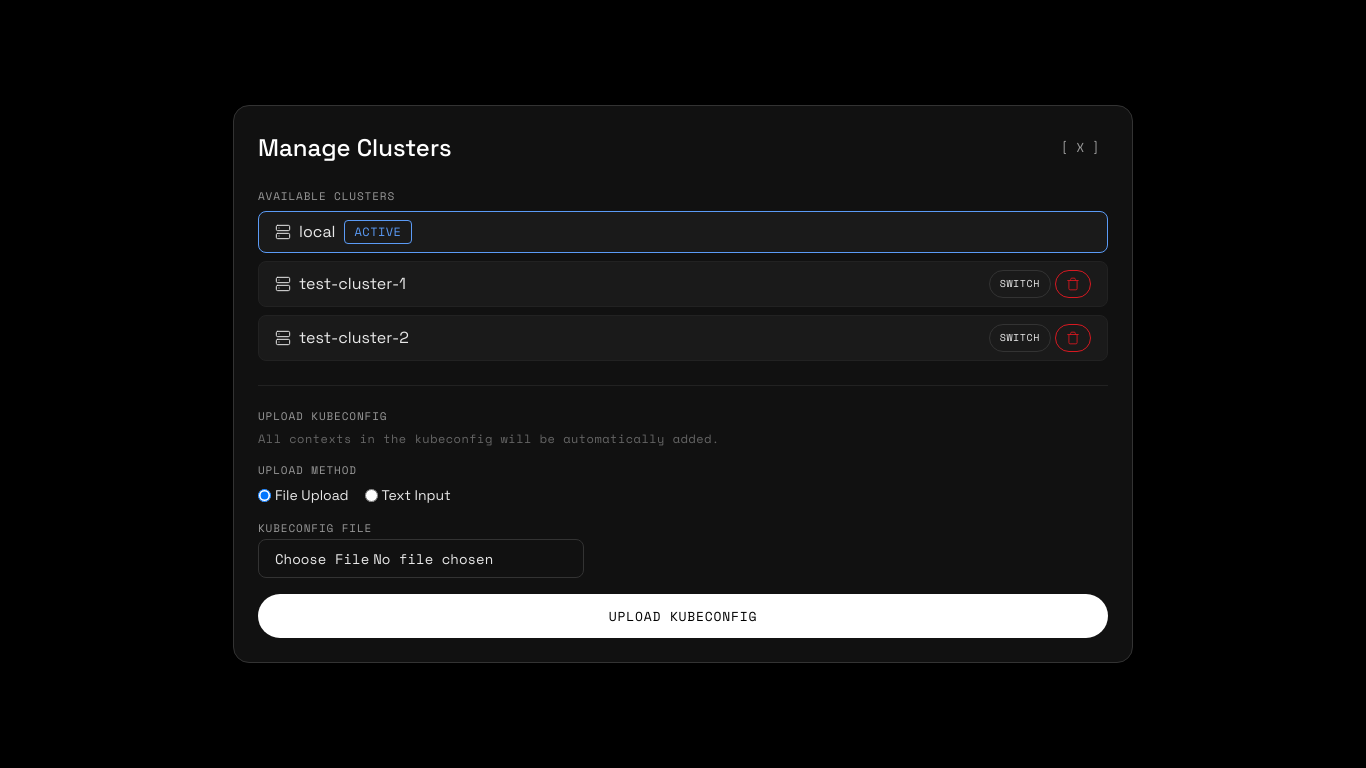
Test case: ClusterManager Component › handles cluster deletion
Expected: the text "test-cluster-1" is shown, [299,272,406,296]
Click the button titled "Delete cluster" in the row of "test-cluster-1" at (1073, 284), box [1055,270,1091,298]
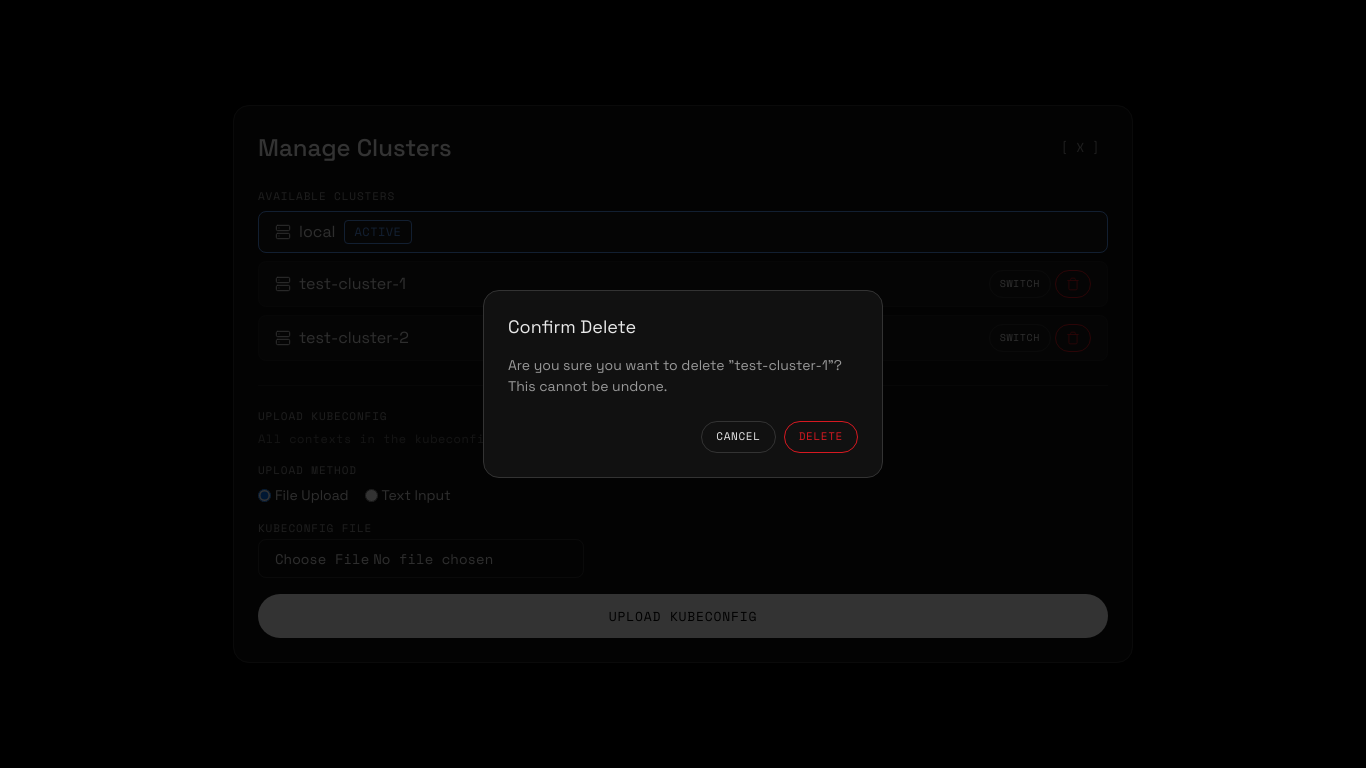
Expected: the heading "Confirm Delete" is shown, [508,315,636,338]
Click the button "Delete" at (821, 437), box [784,421,858,453]
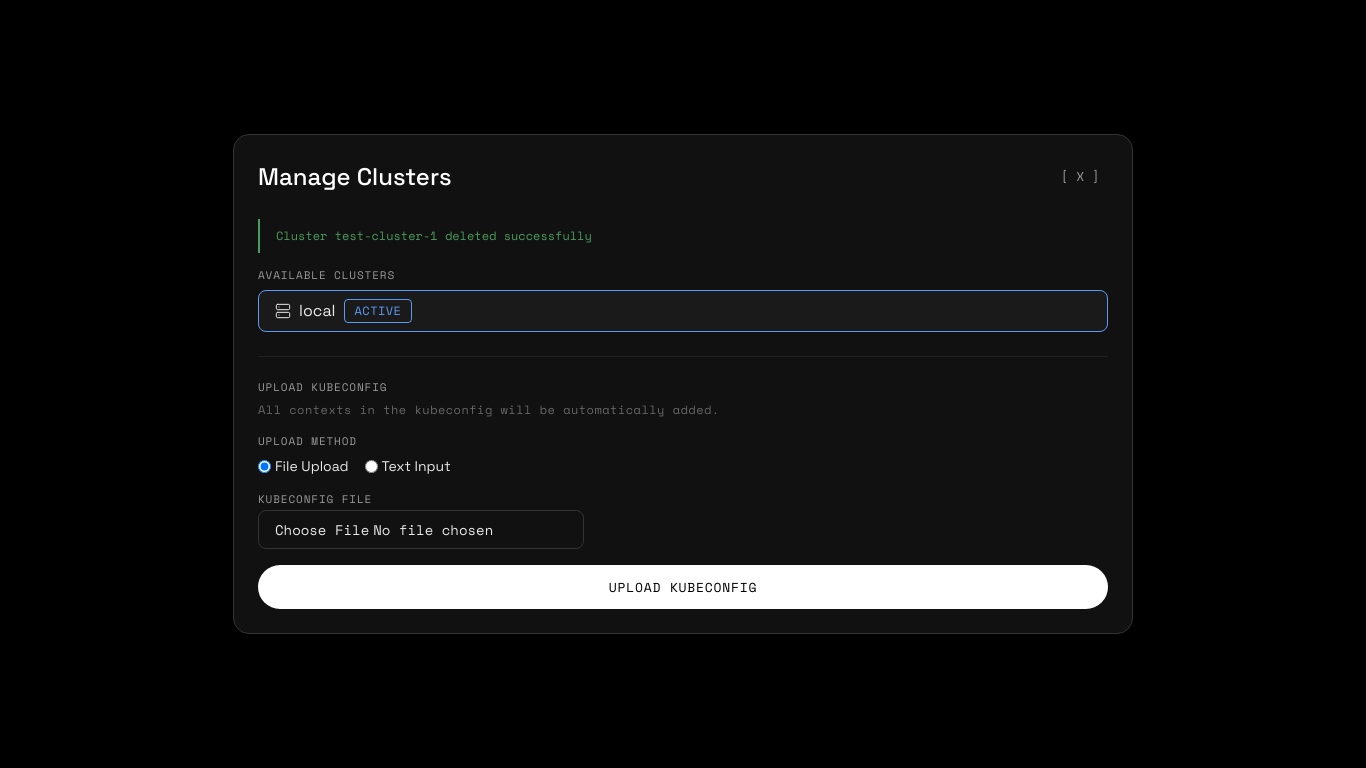
Expected: the text "Cluster test-cluster-1 deleted successfully" is shown, [258,219,1108,253]
